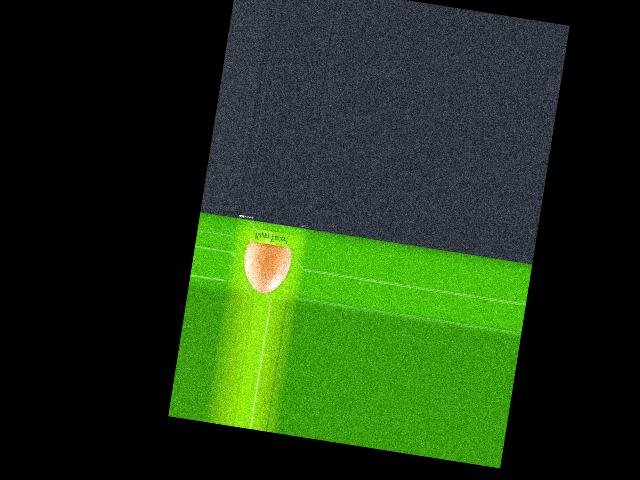egg: (239, 241, 293, 296)
